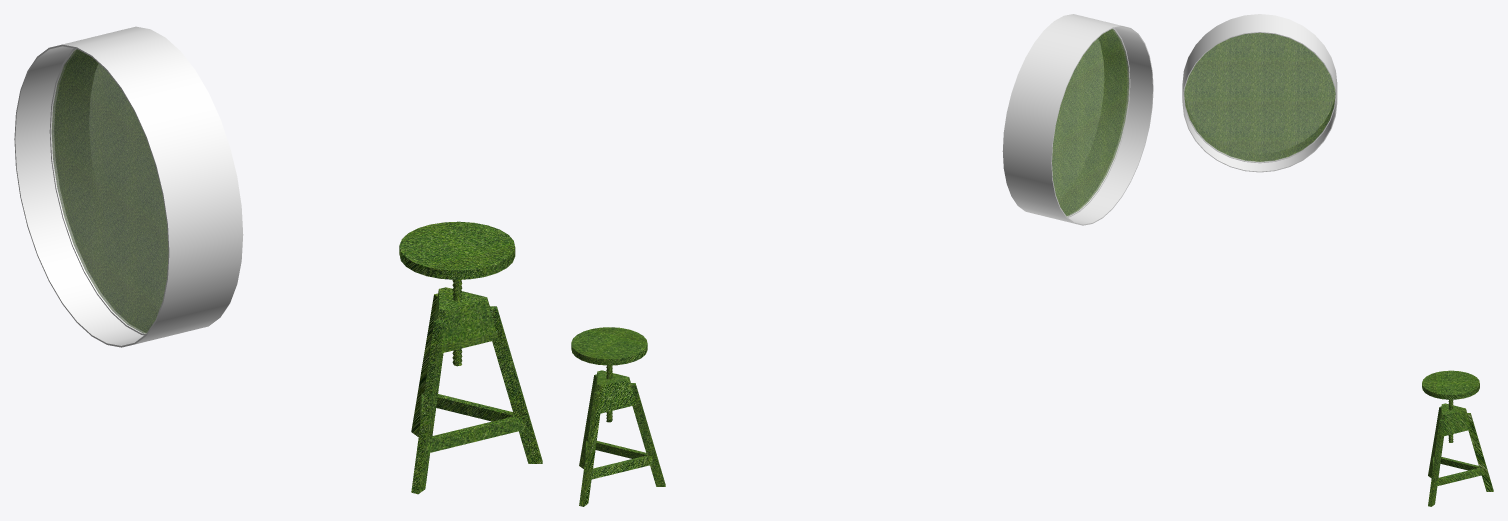
Rendered from circulos.obj.
3 views of the same model, side by side, from view 1: azimuth 30°, elevation 25°; view 2: azimuth 150°, elevation 25°; view 3: azimuth 270°, elevation 25° (orthographic). The views are drawn at different scales.
Parts seen in each view (by area): view 1: border_1, sweethome3d_window_pane_2, base_1_4, sweethome3d_opening_on_rail_1_seat_3_7, mastic_3; view 2: border_1, sweethome3d_window_pane_2, base_1_4, sweethome3d_opening_on_rail_1_seat_3_7, mastic_3; view 3: sweethome3d_window_pane_2, border_1, base_1_4, sweethome3d_opening_on_rail_1_seat_3_7, mastic_3.
Part boxes in pixels (x1,y1,x2,y2): border_1: (14, 26, 243, 347); sweethome3d_window_pane_2: (51, 49, 168, 333); base_1_4: (411, 287, 542, 494); sweethome3d_opening_on_rail_1_seat_3_7: (399, 221, 515, 279); mastic_3: (49, 48, 146, 335); border_1: (1002, 14, 1153, 225); sweethome3d_window_pane_2: (1052, 29, 1128, 216); base_1_4: (579, 370, 665, 506); sweethome3d_opening_on_rail_1_seat_3_7: (571, 327, 647, 365); mastic_3: (1066, 28, 1130, 217); sweethome3d_window_pane_2: (1184, 32, 1335, 161); border_1: (1182, 14, 1337, 172); base_1_4: (1428, 403, 1493, 506); sweethome3d_opening_on_rail_1_seat_3_7: (1422, 370, 1479, 399); mastic_3: (1183, 94, 1335, 163).
Size of the model in its own units: 211 by 221 by 183.
Materials: 5 (4 with a texture image).
